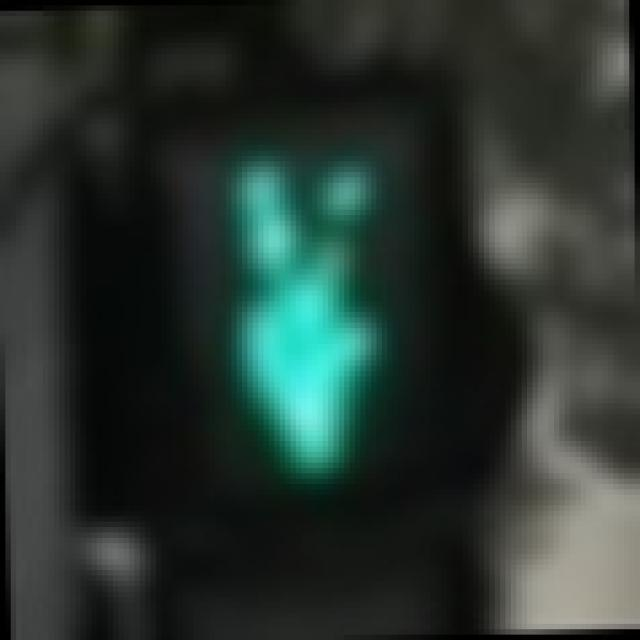geen-crossing: (134, 91, 490, 532)
